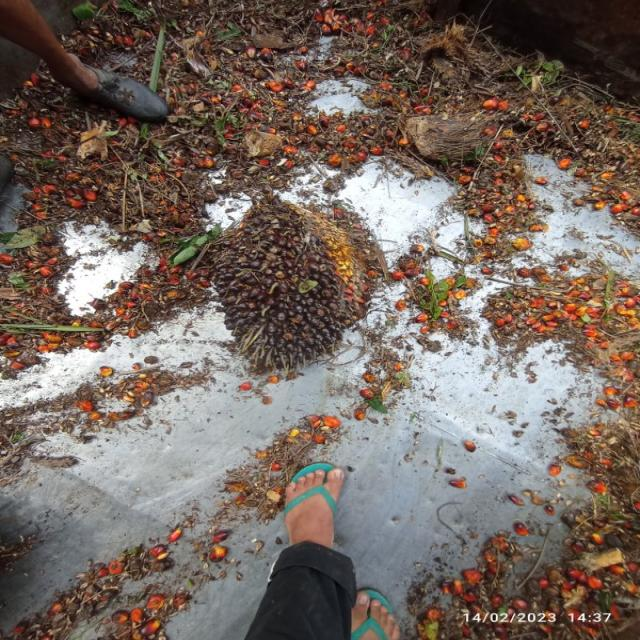fraksi 00: (207, 184, 380, 382)
